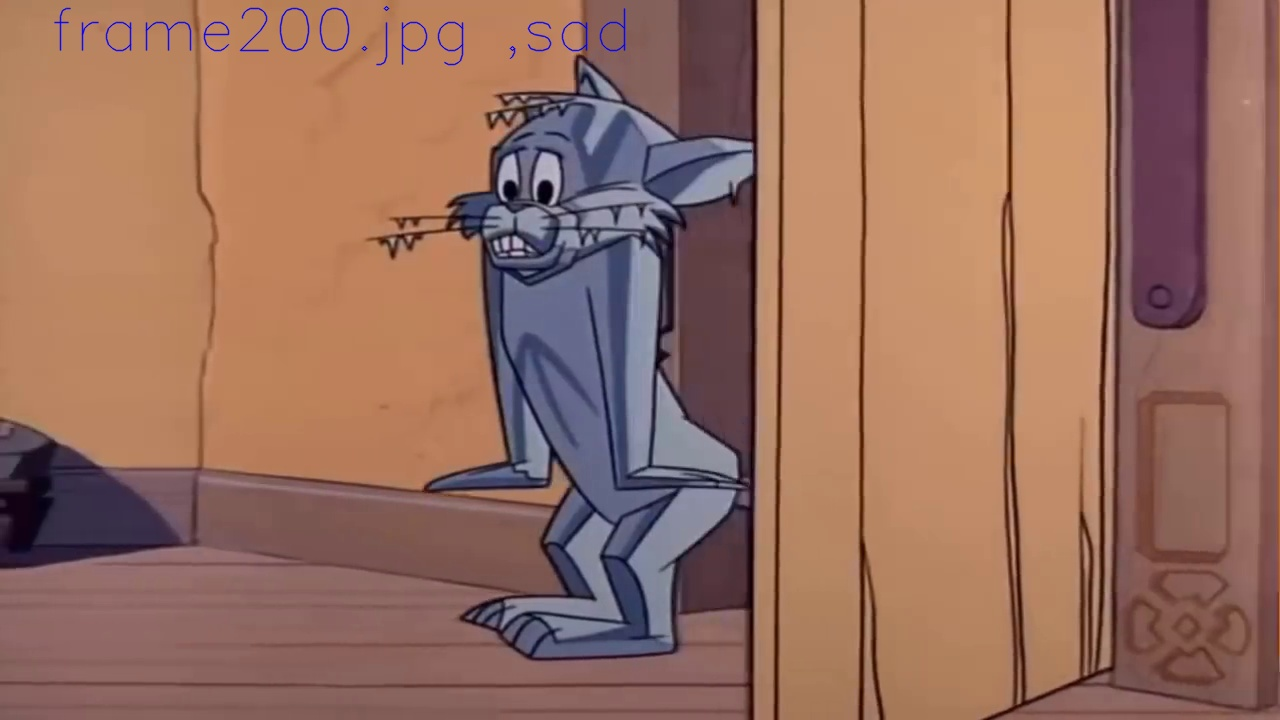sad: (486, 130, 572, 268)
